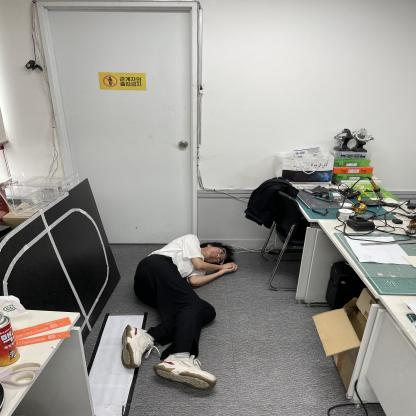fall: (126, 227, 241, 392)
